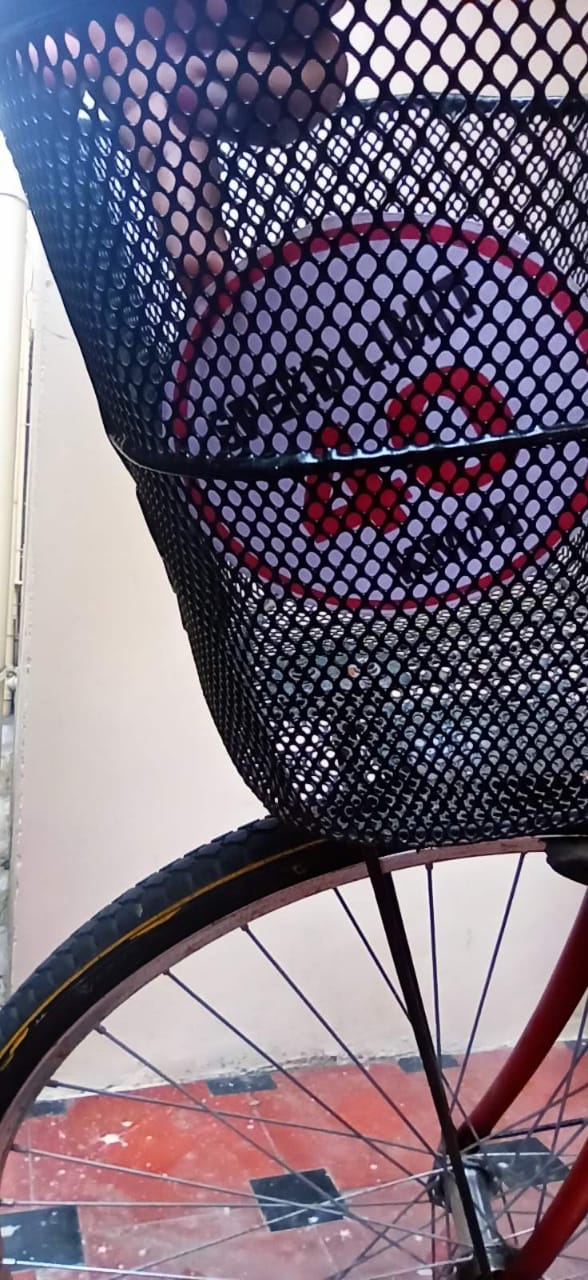SPEED LIMIT (40 KM/H): (170, 208, 588, 592)
